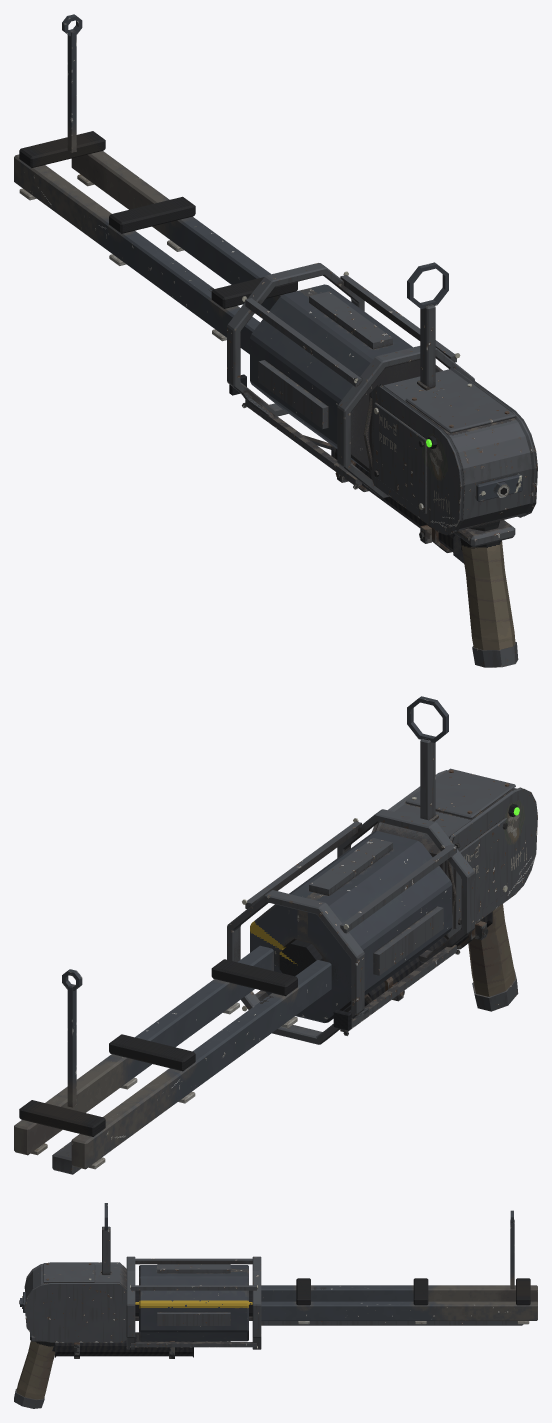
File: driver.glb
3 renders of one model, top to bottom at view 1: azimuth 30°, elevation 25°; view 2: azimuth 150°, elevation 25°; view 3: azimuth 270°, elevation 25°, orthographic. The views are drawn at different scales.
Visible parts, largest first — view 1: Body, Coils, Core; view 2: Body, Coils, Core; view 3: Body, Coils, Core.
Boxes of the visible parts, x1,y1,x2,y2 form: Body: [14, 14, 537, 667]; Coils: [250, 284, 442, 472]; Core: [331, 446, 464, 563]; Body: [14, 696, 537, 1174]; Coils: [250, 831, 452, 1022]; Core: [344, 911, 492, 1011]; Body: [14, 1203, 537, 1408]; Coils: [135, 1264, 252, 1341]; Core: [55, 1332, 193, 1357].
Bounding box in the file's own units: 0.1183 × 0.3029 × 0.716.
1 material, 1 textured.
